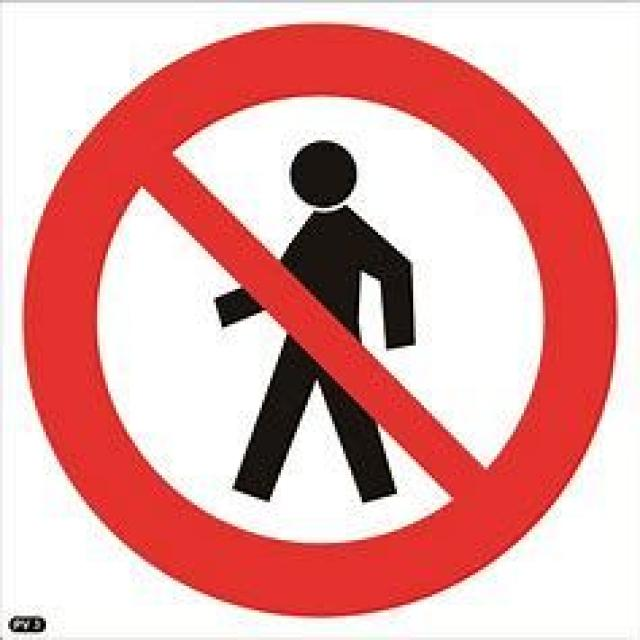Priority road: (13, 19, 616, 616)
